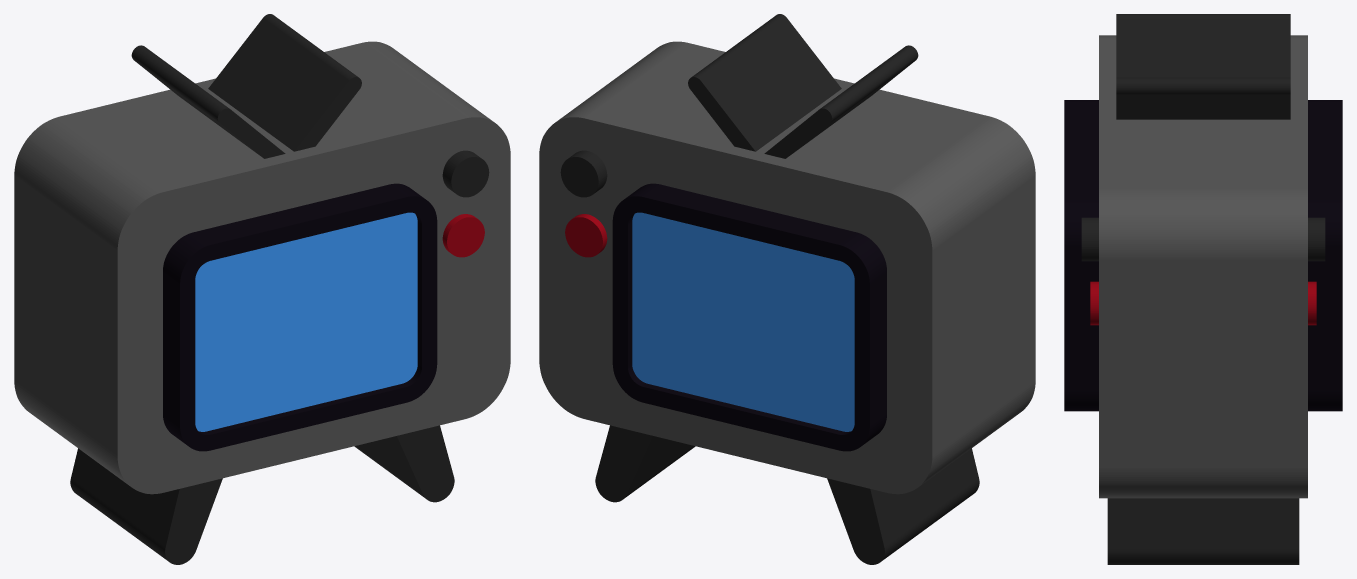
3 renders of one model, left to right at view 1: azimuth 30°, elevation 25°; view 2: azimuth 150°, elevation 25°; view 3: azimuth 270°, elevation 25°, orthographic.
Visible parts, largest first — view 1: U+1F4FA_layer02_obj00, U+1F4FA_layer05_obj00, U+1F4FA_layer06_obj00, U+1F4FA_layer00_obj00, U+1F4FA_layer01_obj00, U+1F4FA_layer04_obj00, U+1F4FA_layer03_obj00; view 2: U+1F4FA_layer02_obj00, U+1F4FA_layer05_obj00, U+1F4FA_layer06_obj00, U+1F4FA_layer00_obj00, U+1F4FA_layer01_obj00, U+1F4FA_layer04_obj00, U+1F4FA_layer03_obj00; view 3: U+1F4FA_layer02_obj00, U+1F4FA_layer06_obj00, U+1F4FA_layer00_obj00, U+1F4FA_layer01_obj00, U+1F4FA_layer04_obj00, U+1F4FA_layer03_obj00.
Part boxes in pixels (x1,y1,x2,y2): U+1F4FA_layer02_obj00: (14, 41, 510, 494); U+1F4FA_layer05_obj00: (195, 212, 417, 431); U+1F4FA_layer06_obj00: (163, 183, 437, 451); U+1F4FA_layer00_obj00: (131, 14, 361, 158); U+1F4FA_layer01_obj00: (70, 425, 454, 564); U+1F4FA_layer04_obj00: (442, 150, 489, 197); U+1F4FA_layer03_obj00: (442, 214, 484, 257); U+1F4FA_layer02_obj00: (539, 41, 1035, 494); U+1F4FA_layer05_obj00: (632, 212, 854, 431); U+1F4FA_layer06_obj00: (612, 183, 886, 451); U+1F4FA_layer00_obj00: (688, 14, 918, 158); U+1F4FA_layer01_obj00: (595, 425, 979, 564); U+1F4FA_layer04_obj00: (560, 150, 607, 197); U+1F4FA_layer03_obj00: (565, 214, 607, 257); U+1F4FA_layer02_obj00: (1099, 35, 1307, 498); U+1F4FA_layer06_obj00: (1064, 100, 1342, 411); U+1F4FA_layer00_obj00: (1116, 14, 1290, 119); U+1F4FA_layer01_obj00: (1107, 498, 1299, 564); U+1F4FA_layer04_obj00: (1081, 217, 1325, 261); U+1F4FA_layer03_obj00: (1090, 281, 1316, 325).
Bounding box in the file's own units: 0.5272 × 0.5652 × 0.32.
